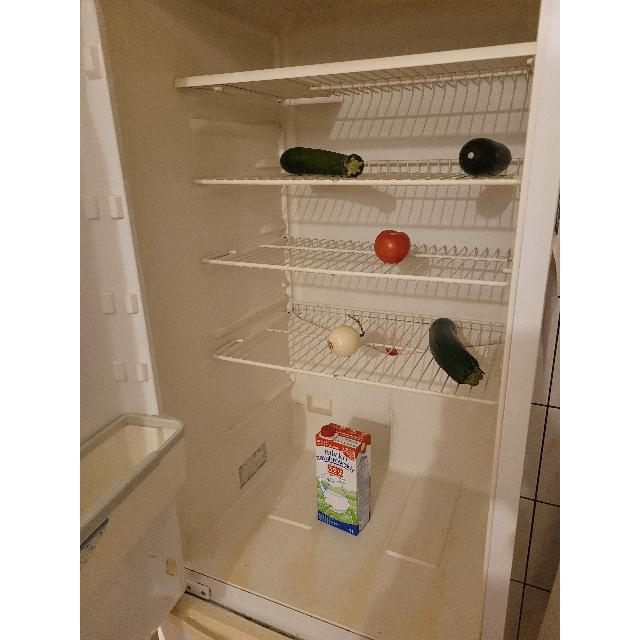milk: (316, 419, 372, 536)
onion: (326, 324, 362, 358)
tomato: (373, 228, 411, 264)
zucchini: (428, 318, 486, 387), (281, 146, 363, 178), (458, 136, 512, 178)
